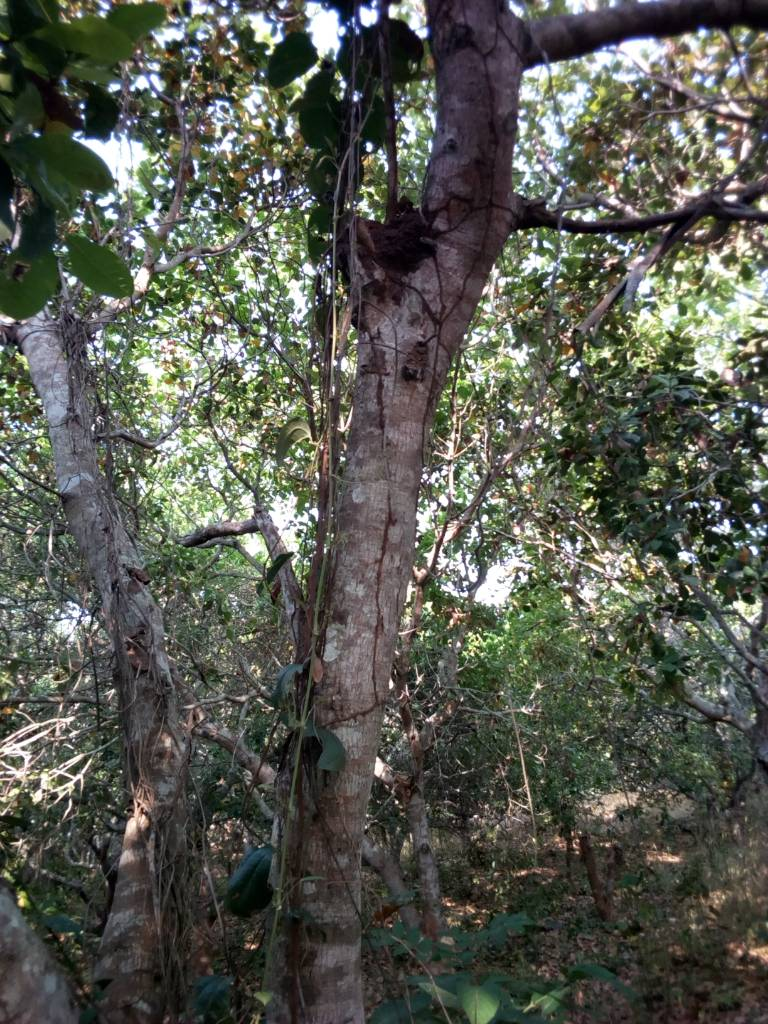Termites: (368, 321, 418, 555)
